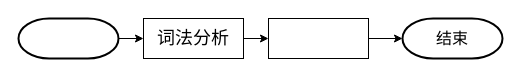
The diagram is 520 pixels wide and 76 high, and some of its shapes have lost their labels. The centre of each missing label's shape, as x and y in pixels:
"开始" belongs at (x=68, y=38).
"语法分析" belongs at (x=318, y=38).
